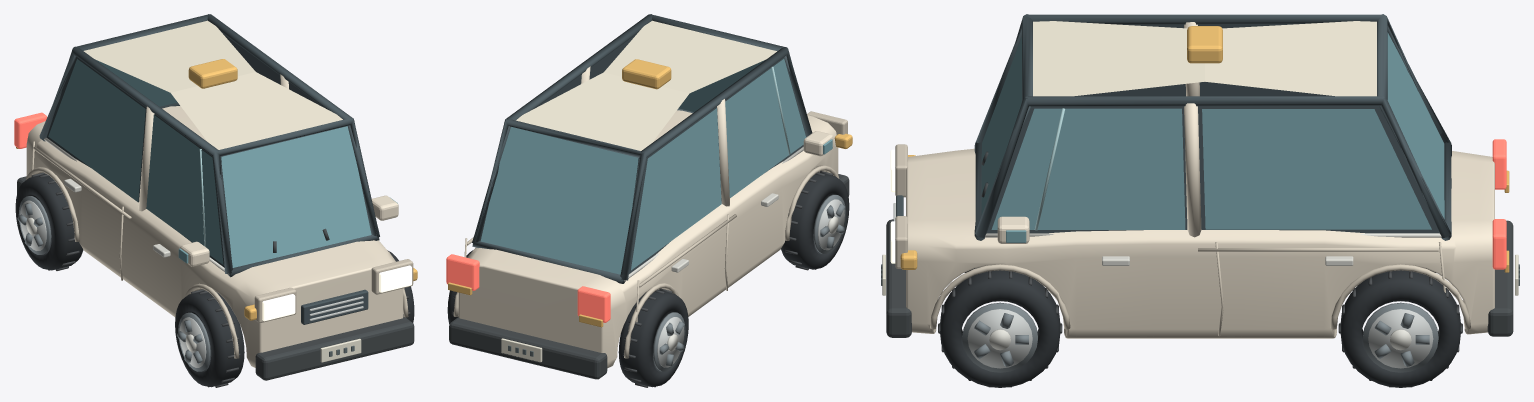
File: car_08.fbx
3 renders of one model, left to right at view 1: azimuth 30°, elevation 25°; view 2: azimuth 150°, elevation 25°; view 3: azimuth 270°, elevation 25°, orthographic. The views are drawn at different scales.
Visible parts, largest first — view 1: Body_SculptedShell, FrontWindscreen, Roof_CrownedPanel, SideWindow_L_1, SideWindow_L_0, FrontBumper, Tyre_FL, Tyre_RL, WindowOutline_L, WindowOutline_R, FrontWindscreenBorder, FrontGrille (+23 smaller); view 2: Body_SculptedShell, RearWindow, Roof_CrownedPanel, SideWindow_L_1, SideWindow_L_0, RearBumper, Tyre_RL, Tyre_FL, WindowOutline_L, RearWindowBorder, WindowOutline_R, CartoonRoofBeacon (+19 smaller); view 3: Body_SculptedShell, SideWindow_R_1, Roof_CrownedPanel, SideWindow_R_0, Tyre_FR, Tyre_RR, WindowOutline_R, WindowOutline_L, WindowBacking_R, RearWindow, FrontWindscreen, RearWindowBorder (+20 smaller).
Boxes of the visible parts, x1=… form: Body_SculptedShell: x1=26, y1=106, x2=403, y2=367; FrontWindscreen: x1=221, y1=126, x2=371, y2=267; Roof_CrownedPanel: x1=83, y1=20, x2=342, y2=149; SideWindow_L_1: x1=48, y1=59, x2=145, y2=201; SideWindow_L_0: x1=146, y1=115, x2=223, y2=264; FrontBumper: x1=255, y1=317, x2=414, y2=380; Tyre_FL: x1=175, y1=290, x2=244, y2=387; Tyre_RL: x1=15, y1=174, x2=83, y2=270; WindowOutline_L: x1=43, y1=46, x2=232, y2=271; WindowOutline_R: x1=207, y1=14, x2=379, y2=237; FrontWindscreenBorder: x1=215, y1=118, x2=379, y2=277; FrontGrille: x1=301, y1=289, x2=368, y2=324; Body_SculptedShell: x1=458, y1=110, x2=838, y2=368; RearWindow: x1=480, y1=127, x2=638, y2=274; Roof_CrownedPanel: x1=516, y1=20, x2=776, y2=150; SideWindow_L_1: x1=631, y1=108, x2=721, y2=270; SideWindow_L_0: x1=725, y1=59, x2=806, y2=197; RearBumper: x1=449, y1=317, x2=607, y2=379; Tyre_RL: x1=618, y1=290, x2=688, y2=387; Tyre_FL: x1=781, y1=172, x2=849, y2=269; WindowOutline_L: x1=620, y1=47, x2=812, y2=274; RearWindowBorder: x1=472, y1=118, x2=644, y2=283; WindowOutline_R: x1=472, y1=14, x2=652, y2=243; CartoonRoofBeacon: x1=622, y1=59, x2=671, y2=89; Body_SculptedShell: x1=906, y1=148, x2=1494, y2=338; SideWindow_R_1: x1=1202, y1=109, x2=1431, y2=229; Roof_CrownedPanel: x1=1033, y1=21, x2=1376, y2=96; SideWindow_R_0: x1=991, y1=108, x2=1185, y2=229; Tyre_FR: x1=940, y1=270, x2=1060, y2=387; Tyre_RR: x1=1340, y1=270, x2=1460, y2=387; WindowOutline_R: x1=975, y1=96, x2=1451, y2=238; WindowOutline_L: x1=976, y1=14, x2=1448, y2=142; WindowBacking_R: x1=987, y1=106, x2=1438, y2=233; RearWindow: x1=1387, y1=32, x2=1444, y2=218; FrontWindscreen: x1=981, y1=37, x2=1021, y2=214; RearWindowBorder: x1=1377, y1=14, x2=1451, y2=240.
Size of the model in its own units: 251 by 265 by 519.
